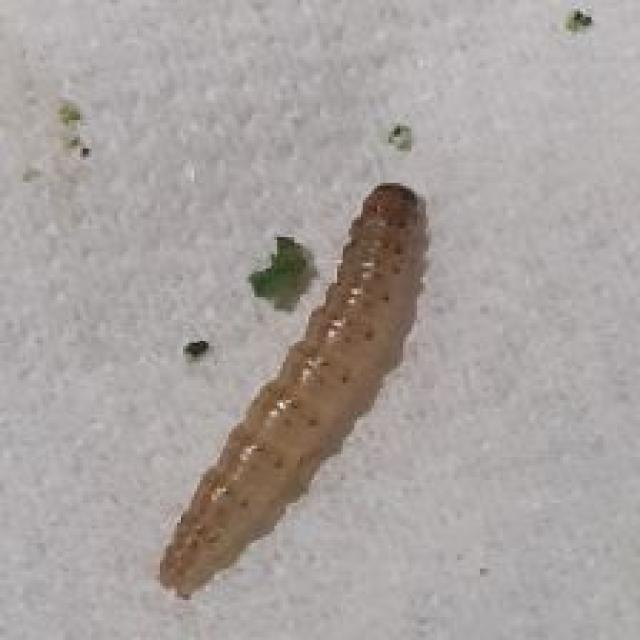white mucus: (149, 168, 471, 595)
